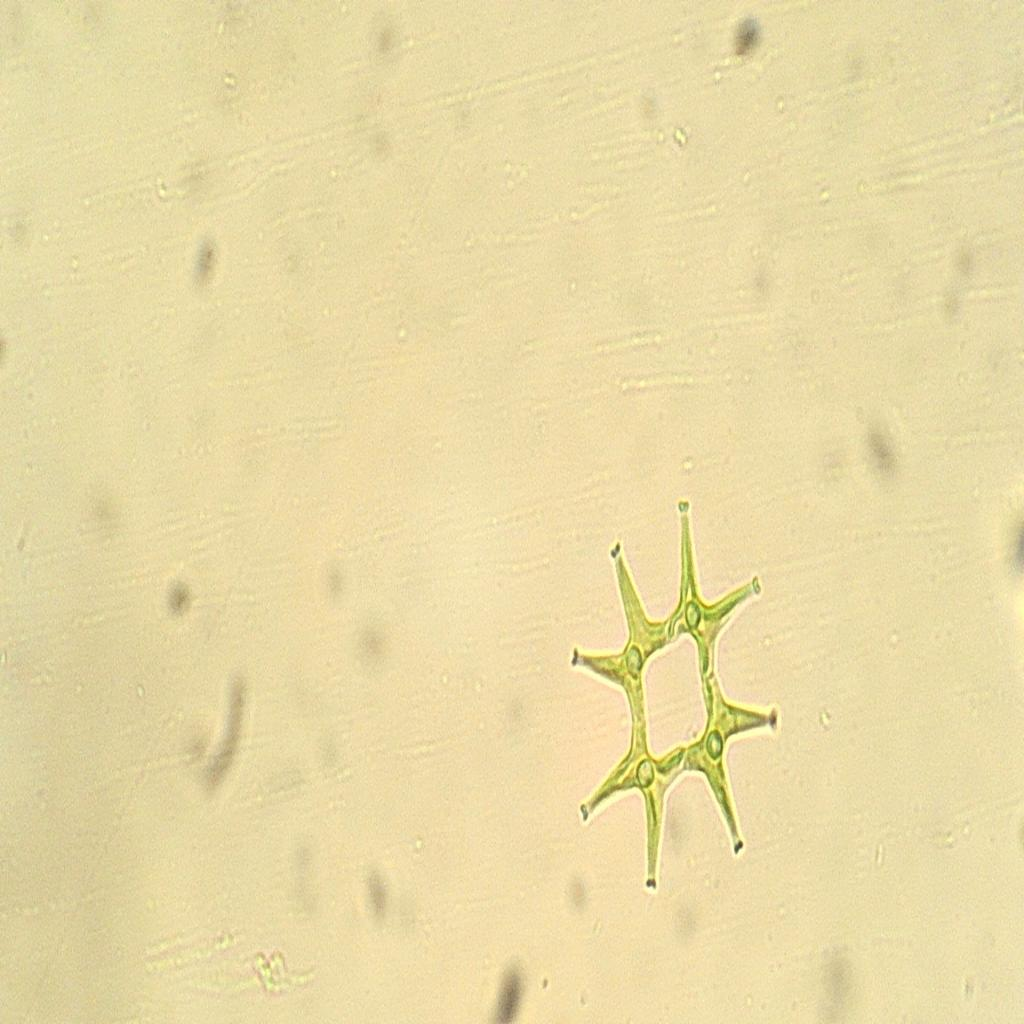Pediastrum_75O: (552, 469, 790, 916)
